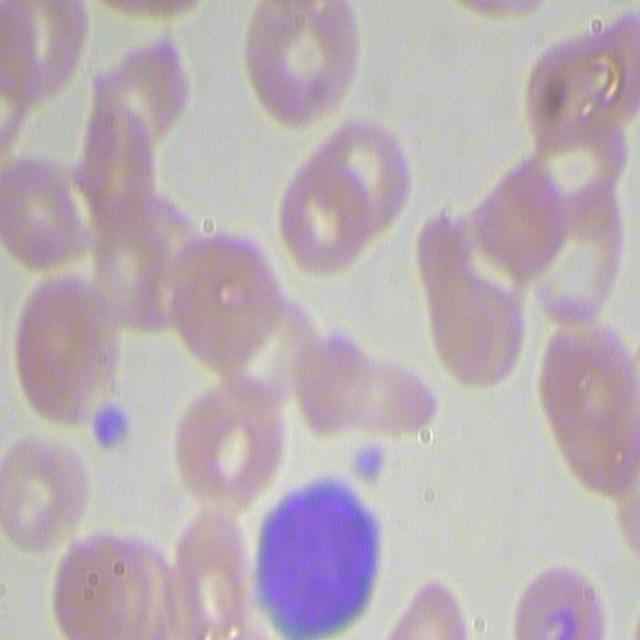RBC: (524, 9, 631, 224), (280, 114, 414, 281), (421, 198, 532, 388), (540, 314, 636, 500), (89, 172, 199, 334), (8, 271, 114, 431), (303, 314, 438, 436), (242, 2, 364, 132), (516, 194, 625, 336), (51, 526, 187, 638), (155, 486, 250, 638), (164, 211, 260, 354), (171, 379, 276, 506), (90, 41, 204, 142), (4, 142, 86, 275), (1, 426, 82, 554), (0, 0, 86, 104), (508, 559, 611, 638)
WBC: (234, 465, 384, 640)
platelets: (88, 398, 134, 460), (346, 437, 388, 494)
